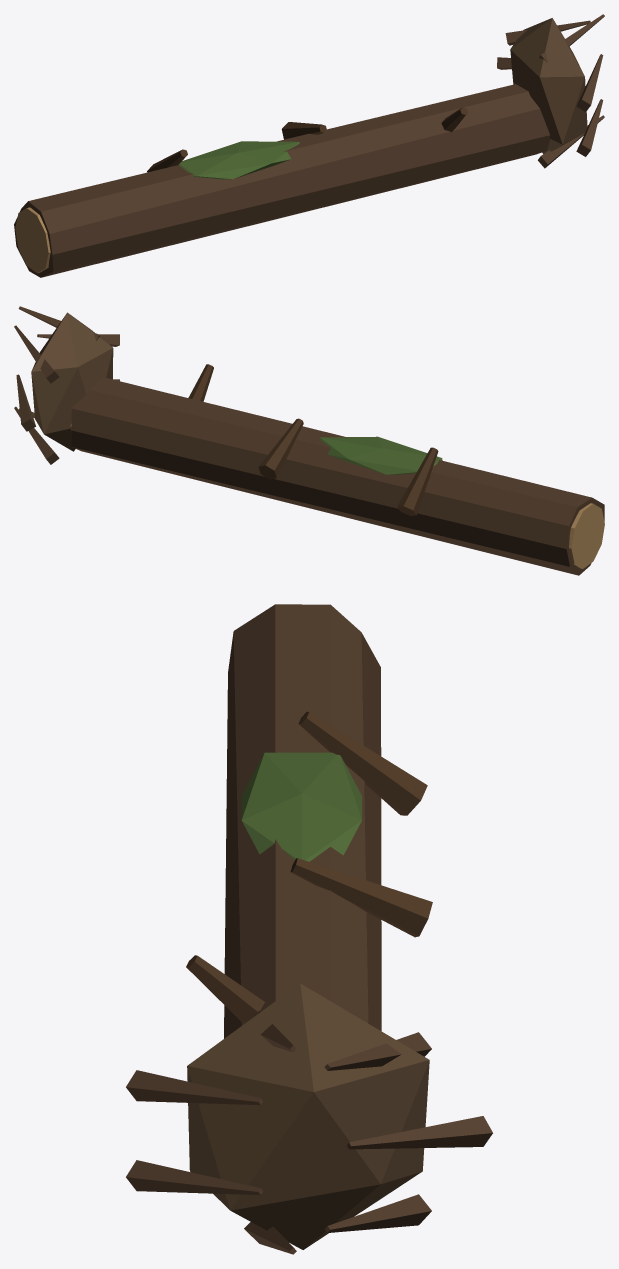
The model's file is Log3.glb.
3 renders of one model, top to bottom at view 1: azimuth 30°, elevation 25°; view 2: azimuth 150°, elevation 25°; view 3: azimuth 270°, elevation 25°, orthographic. The views are drawn at different scales.
Visible parts, largest first — view 1: Log3; view 2: Log3; view 3: Log3.
Boxes of the visible parts, x1=… form: Log3: x1=14, y1=14, x2=604, y2=277; Log3: x1=14, y1=306, x2=604, y2=575; Log3: x1=126, y1=604, x2=492, y2=1254.
Size of the model in its own units: 18.42 by 4.29 by 5.14.
